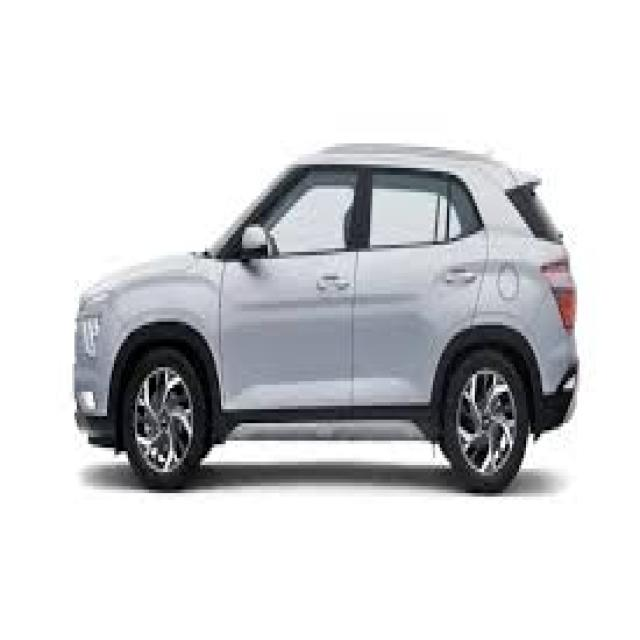SUV: (69, 137, 579, 493)
